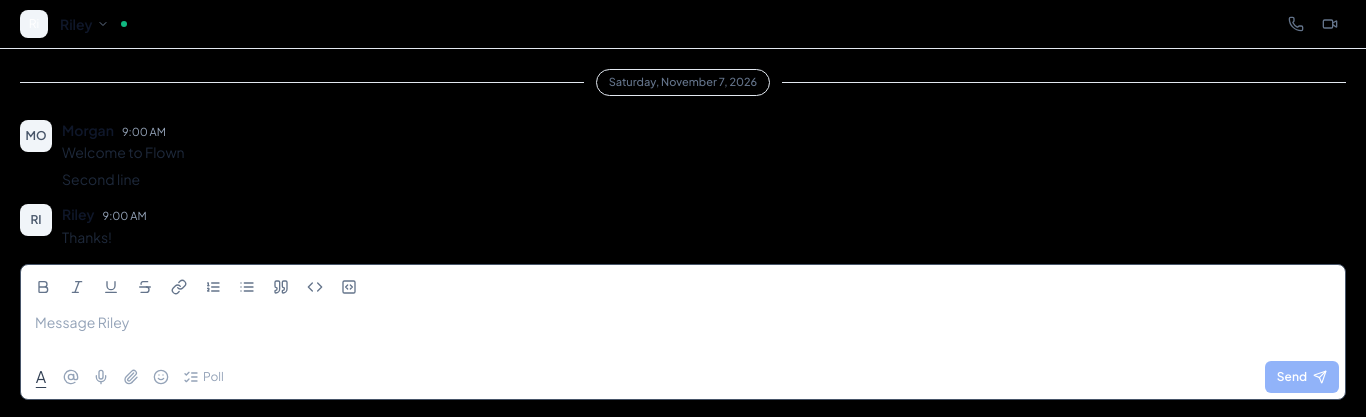
Scenario: compact messaging feed › opens settings from the title with no redundant header icons or channel hash
Click the 1st button "Riley": [84, 24] box [56,10,113,38]
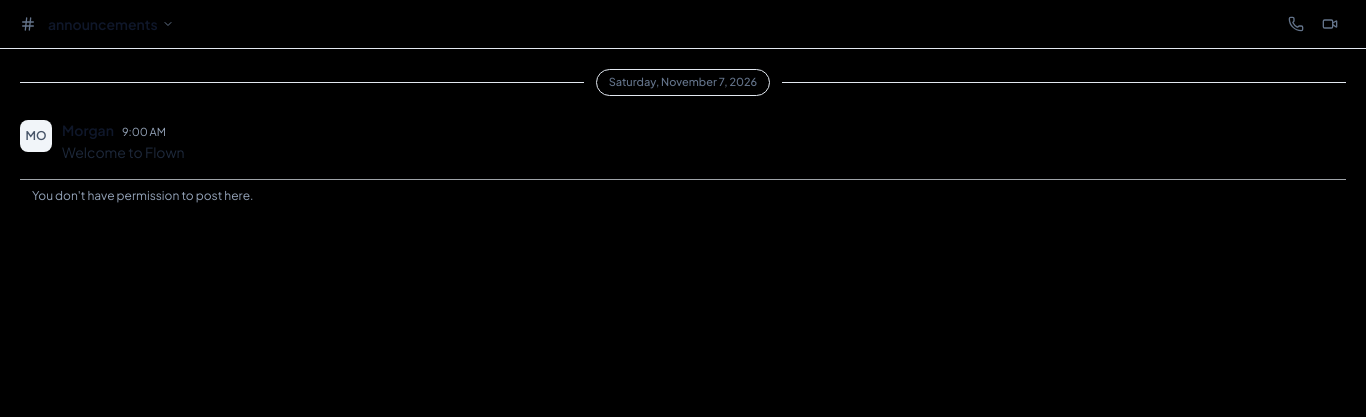
Expected: the heading "announcements" is shown, [48,14,158,34]
